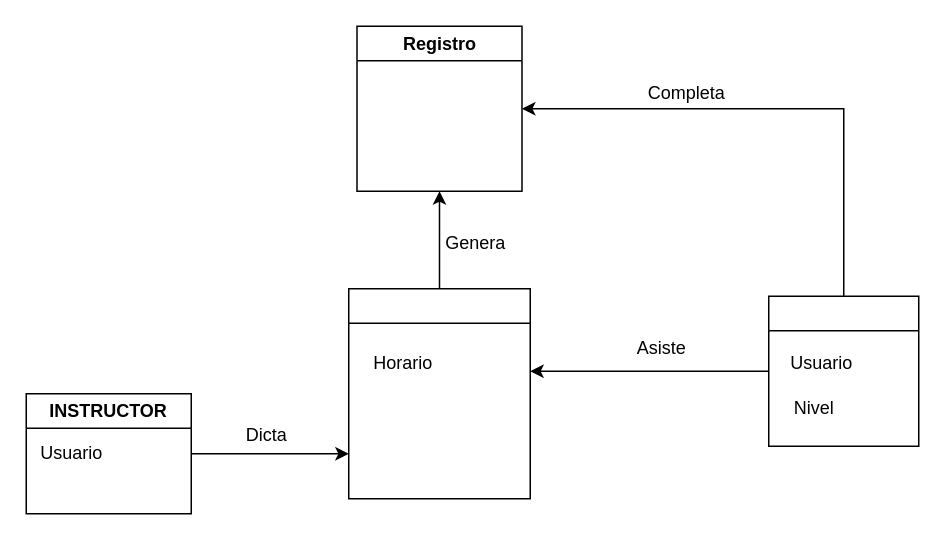
The diagram is 945 pixels wide and 540 high, and some of its shapes have lost their labels. The shapes that lost their labels are listed below. From the top down, each one's box as (x1, y1, x2, y2) in pixels, then its label:
(767, 295, 919, 446): ALUMNO
(347, 287, 530, 499): LECCION
